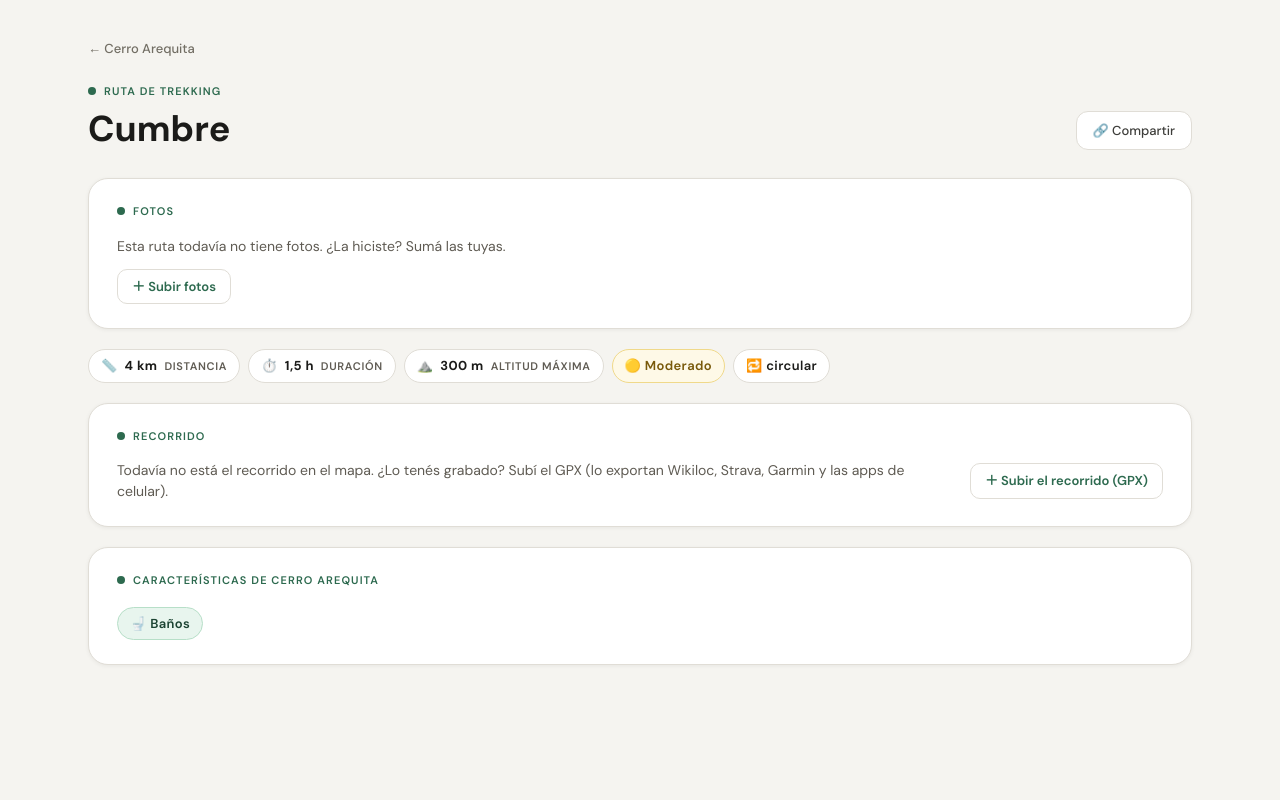
Test case: página de la ruta › vuelve al lugar y Compartir abre el modal
Click the button "🔗 Compartir": (1134, 130) left=1076, top=111, right=1192, bottom=150
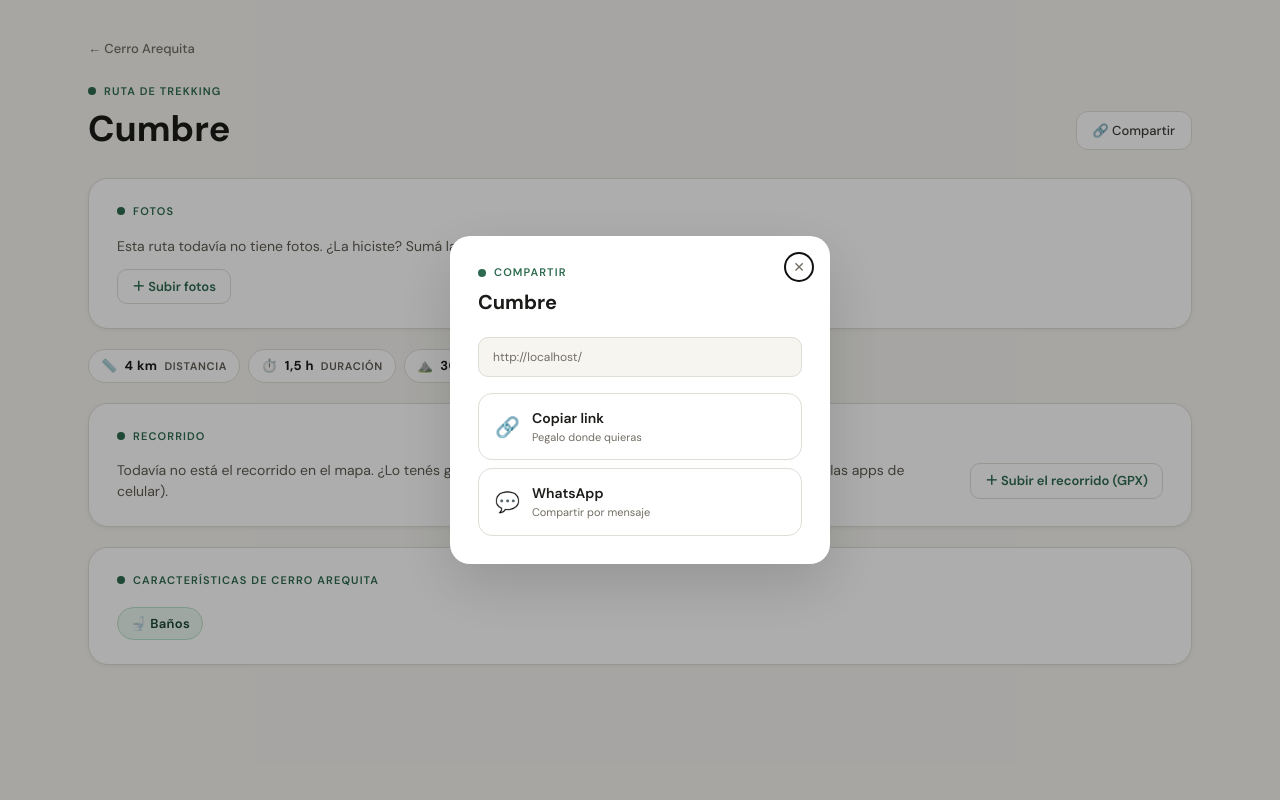
Check: the text "Copiar link" is shown, box left=532, top=409, right=604, bottom=427
